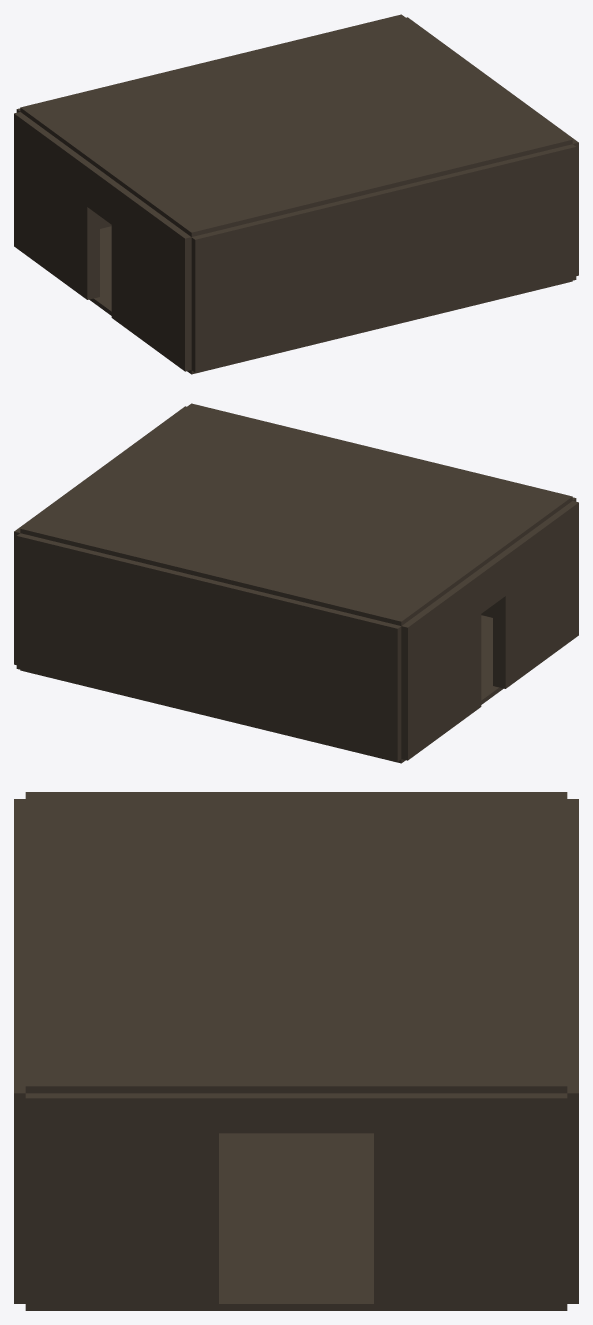
File: env_shell_z3_bodega.glb
3 views of the same model, one above another, from view 1: azimuth 30°, elevation 25°; view 2: azimuth 150°, elevation 25°; view 3: azimuth 270°, elevation 25° (orthographic). The views are drawn at different scales.
Visible parts, largest first — view 1: Z3_Ceiling, Z3_Wall_S, Z3_Wall_W_R, Z3_Wall_W_L, Z3_Floor, Z3_Wall_W_Lintel, Z3_Wall_E_L; view 2: Z3_Ceiling, Z3_Wall_N, Z3_Wall_W_L, Z3_Wall_W_R, Z3_Floor, Z3_Wall_W_Lintel, Z3_Wall_E_R; view 3: Z3_Ceiling, Z3_Wall_E_L, Z3_Wall_E_R, Z3_Floor, Z3_Wall_E_Lintel, Z3_Wall_N, Z3_Wall_S.
Part boxes in pixels (left/top/right/bottom): Z3_Ceiling: left=20, top=14, right=572, bottom=236; Z3_Wall_S: left=191, top=144, right=576, bottom=372; Z3_Wall_W_R: left=14, top=112, right=99, bottom=299; Z3_Wall_W_L: left=111, top=183, right=191, bottom=371; Z3_Floor: left=89, top=226, right=572, bottom=374; Z3_Wall_W_Lintel: left=87, top=165, right=117, bottom=224; Z3_Wall_E_L: left=516, top=98, right=578, bottom=275; Z3_Ceiling: left=20, top=403, right=572, bottom=625; Z3_Wall_N: left=16, top=533, right=401, bottom=761; Z3_Wall_W_L: left=493, top=501, right=578, bottom=688; Z3_Wall_W_R: left=401, top=572, right=481, bottom=760; Z3_Floor: left=20, top=615, right=503, bottom=763; Z3_Wall_W_Lintel: left=475, top=554, right=505, bottom=613; Z3_Wall_E_R: left=14, top=487, right=76, bottom=664; Z3_Ceiling: left=25, top=792, right=567, bottom=1093; Z3_Wall_E_L: left=25, top=1093, right=218, bottom=1308; Z3_Wall_E_R: left=374, top=1093, right=567, bottom=1308; Z3_Floor: left=25, top=1133, right=567, bottom=1310; Z3_Wall_E_Lintel: left=219, top=1093, right=373, bottom=1133; Z3_Wall_N: left=567, top=799, right=578, bottom=1303; Z3_Wall_S: left=14, top=799, right=25, bottom=1303.
Bounding box in the file's own units: 9.3 × 3.2 × 7.3.
